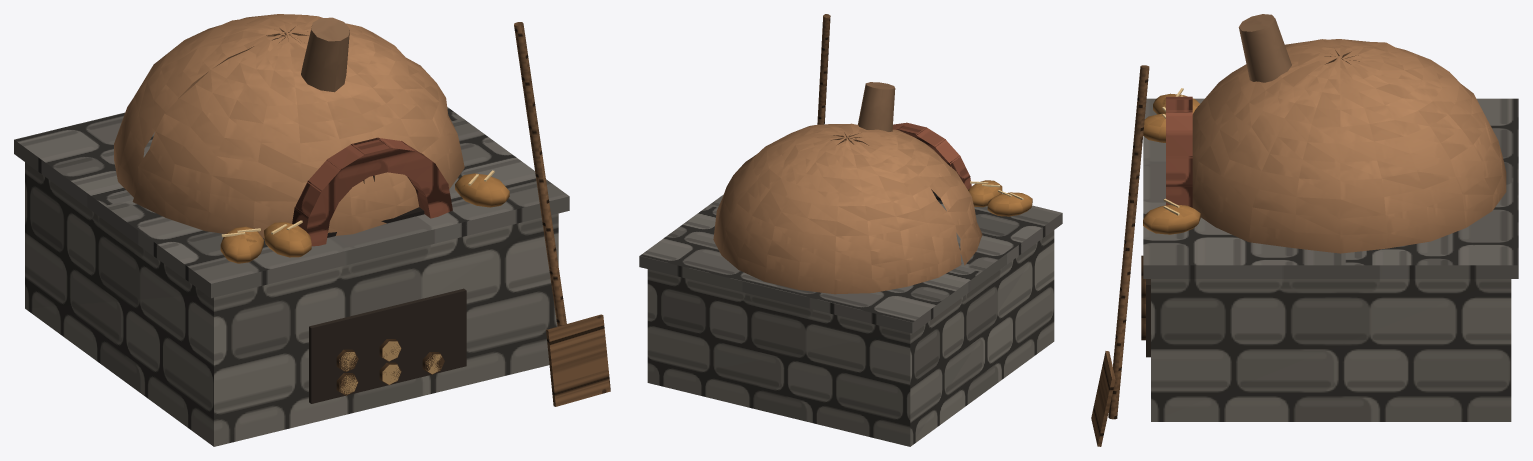
Rendered from backofen.glb.
3 views of the same model, side by side, from view 1: azimuth 30°, elevation 25°; view 2: azimuth 150°, elevation 25°; view 3: azimuth 270°, elevation 25° (orthographic). The views are drawn at different scales.
Visible parts, largest first — view 1: modell; view 2: modell; view 3: modell.
Boxes of the visible parts, x1,y1,x2,y2 form: modell: [14, 14, 610, 446]; modell: [639, 14, 1062, 446]; modell: [1091, 14, 1518, 446].
Size of the model in its own units: 2.18 by 2.03 by 2.25.
6 materials, 4 textured.
